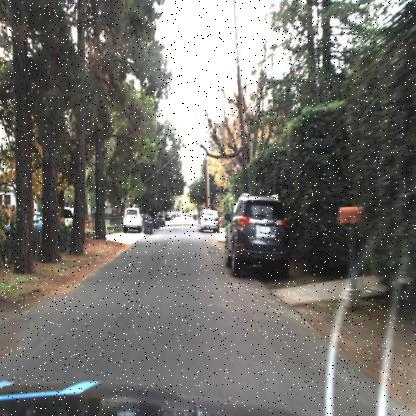car: (222, 192, 291, 280), (120, 203, 144, 234), (197, 210, 221, 234), (122, 209, 142, 234)
